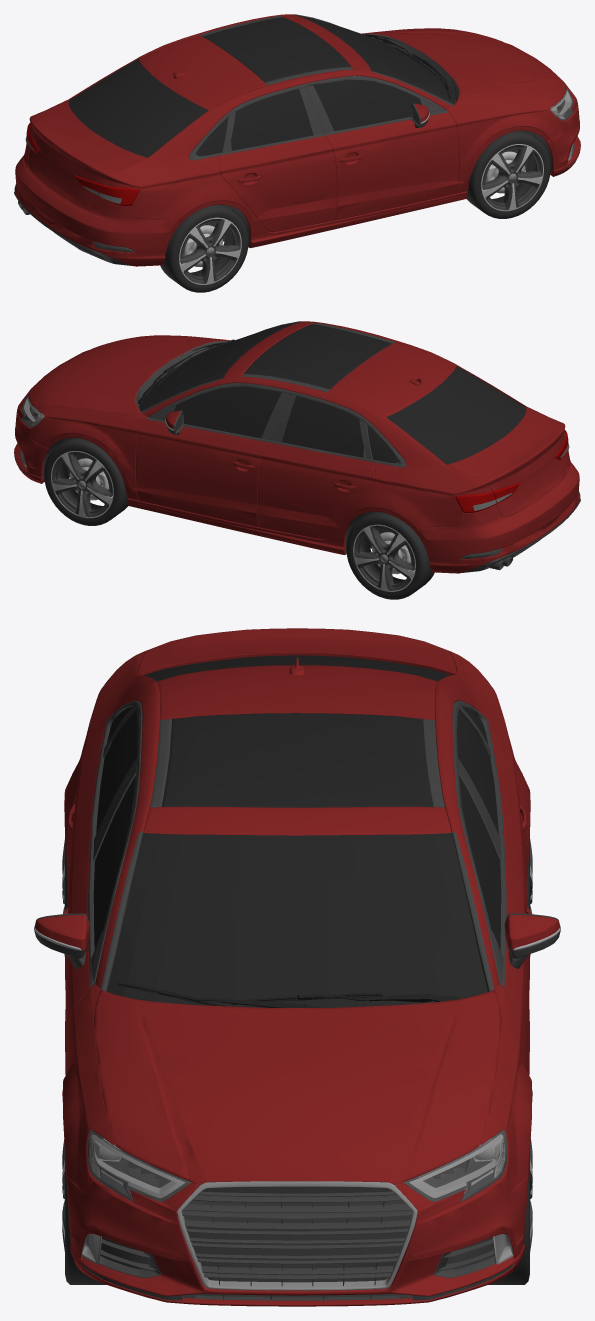
File: default_red.FBX
3 renders of one model, top to bottom at view 1: azimuth 30°, elevation 25°; view 2: azimuth 150°, elevation 25°; view 3: azimuth 270°, elevation 25°, orthographic. The views are drawn at different scales.
Visible parts, largest first — view 1: Saimo_05, Saimo_10, Saimo_12, Saimo_wheelBR_06, Saimo_wheelFR_06, Saimo_wheelFR_03, Saimo_wheelBR_02, Saimo_06, Saimo_wheelFR_05, Saimo_wheelBR_03, Saimo_07, Saimo_02; view 2: Saimo_05, Saimo_10, Saimo_12, Saimo_wheelBL_04, Saimo_wheelFL_06, Saimo_wheelFL_05, Saimo_wheelBL_06, Saimo_06, Saimo_wheelFL_03, Saimo_wheelBL_03, Saimo_07, Saimo_02; view 3: Saimo_05, Saimo_10, Saimo_12, Saimo_08, Saimo_02, Saimo_13, Saimo_11, Saimo_07, Saimo_14, Saimo_wheelFL_06, Saimo_wheelFR_06.
Boxes of the visible parts, left/top/right/bottom form: Saimo_05: left=14, top=14, right=580, bottom=266; Saimo_10: left=68, top=15, right=455, bottom=157; Saimo_12: left=14, top=14, right=578, bottom=266; Saimo_wheelBR_06: left=160, top=204, right=248, bottom=292; Saimo_wheelFR_06: left=467, top=130, right=550, bottom=218; Saimo_wheelFR_03: left=482, top=145, right=542, bottom=210; Saimo_wheelBR_02: left=180, top=219, right=240, bottom=283; Saimo_06: left=25, top=123, right=139, bottom=206; Saimo_wheelFR_05: left=481, top=144, right=543, bottom=211; Saimo_wheelBR_03: left=179, top=217, right=241, bottom=284; Saimo_07: left=364, top=34, right=456, bottom=101; Saimo_02: left=550, top=88, right=573, bottom=120; Saimo_05: left=14, top=321, right=580, bottom=573; Saimo_10: left=139, top=322, right=526, bottom=464; Saimo_12: left=16, top=321, right=580, bottom=572; Saimo_wheelBL_04: left=346, top=511, right=434, bottom=599; Saimo_wheelFL_06: left=44, top=437, right=127, bottom=525; Saimo_wheelFL_05: left=52, top=452, right=112, bottom=517; Saimo_wheelBL_06: left=354, top=525, right=414, bottom=590; Saimo_06: left=455, top=429, right=569, bottom=512; Saimo_wheelFL_03: left=51, top=451, right=113, bottom=518; Saimo_wheelBL_03: left=353, top=524, right=415, bottom=591; Saimo_07: left=137, top=339, right=234, bottom=409; Saimo_02: left=21, top=395, right=44, bottom=427; Saimo_05: left=34, top=628, right=560, bottom=1306; Saimo_10: left=93, top=655, right=501, bottom=1007; Saimo_12: left=34, top=700, right=560, bottom=1300; Saimo_08: left=182, top=1190, right=412, bottom=1286; Saimo_02: left=87, top=1130, right=507, bottom=1201; Saimo_13: left=177, top=1181, right=417, bottom=1290; Saimo_11: left=90, top=1134, right=504, bottom=1197; Saimo_07: left=110, top=824, right=486, bottom=1007; Saimo_14: left=81, top=1234, right=513, bottom=1264; Saimo_wheelFL_06: left=488, top=1154, right=529, bottom=1284; Saimo_wheelFR_06: left=65, top=1154, right=106, bottom=1284.
Size of the model in its own units: 4.36 by 1.43 by 1.95.
